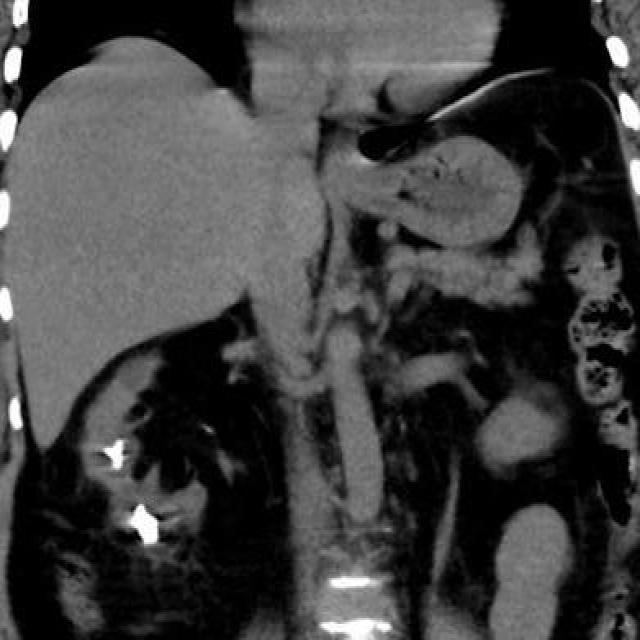Tas_Var: (126, 494, 165, 556), (100, 434, 128, 474)
